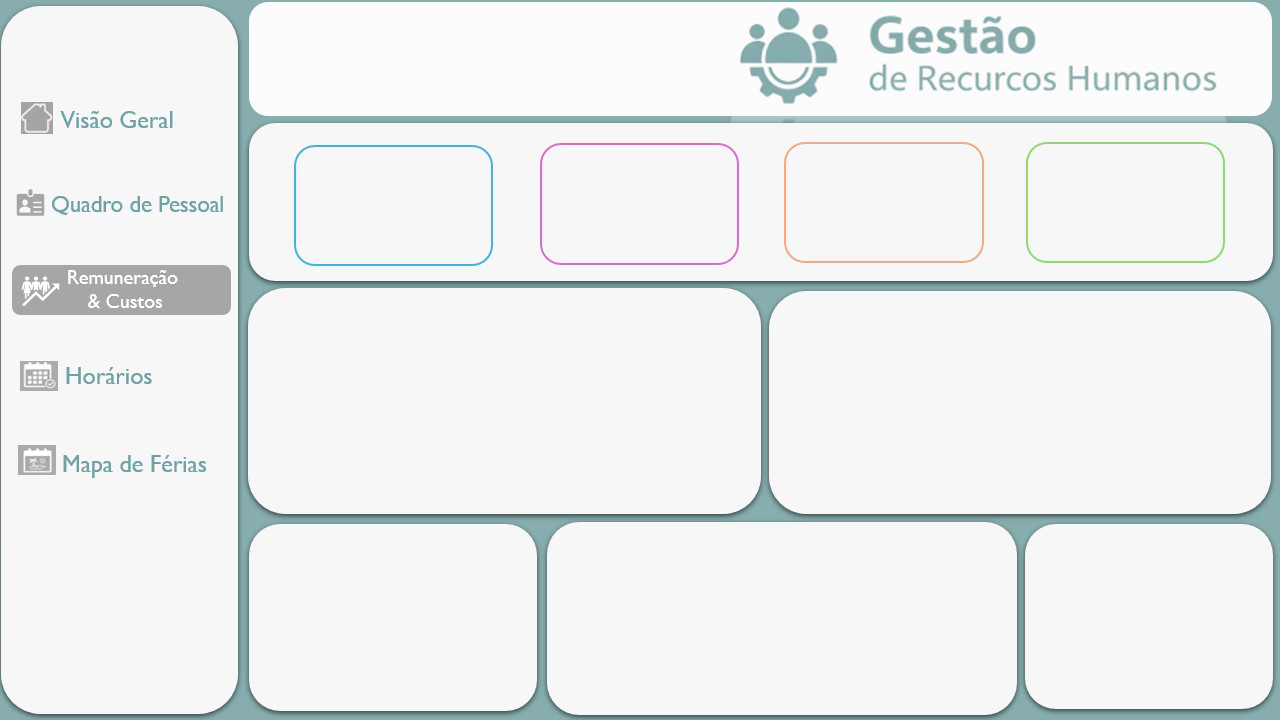

What the dashboard file says about the page in this screenshot:
{"tool":"powerbi","page":{"name":"Remuneração e Custo","canvas":[1280,720],"ordinal":2},"visuals":[{"type":"actionButton","box":[0,0,100,40],"z":0},{"type":"clusteredColumnChart","fields":{"Category":["Base de funcionarios.Nome Completo"]},"box":[249,286.6,497.9,227.8],"z":1000},{"type":"card","fields":{"Values":["Média de Antiguidade anos.Custo volateis por funcionario"]},"box":[253.7,131.5,285.4,140.9],"z":2000},{"type":"card","fields":{"Values":["Média de Antiguidade anos.Custo Total Mês Atual (Base)"]},"box":[497.9,128,285.4,149.1],"z":3000},{"type":"card","fields":{"Values":["Média de Antiguidade anos.Custo Médio por Funcionário"]},"box":[792.7,131.5,187.9,145.6],"z":4000},{"type":"lineClusteredColumnComboChart","fields":{"Category":["Base de funcionarios.Nome Completo"],"Y":["Média de Antiguidade anos.Custo total por funcionario"]},"box":[249.2,300,513.8,203.1],"z":5000},{"type":"donutChart","fields":{"Y":["Média de Antiguidade anos.Custo total por funcionario"],"Category":["Cargo.Cargo"]},"box":[783.1,300,496.9,203.1],"z":6000},{"type":"barChart","title":"Custo total por Sexo","fields":{"Category":["Base de funcionarios.ID_Sexo"],"Y":["Média de Antiguidade anos.Custo total por funcionario"]},"box":[1024.6,144.6,224.6,130.8],"z":7000},{"type":"funnel","fields":{"Category":["Cargo.Cargo"],"Y":["Sum(Custos.Horas Extra (€))"]},"box":[562.5,530.8,401.6,173.8],"z":8000},{"type":"pieChart","title":"Soma de Feriados Trabalhados por Sexo","fields":{"Y":["Sum(Custos.Feriados Trabalhados (€))"],"Category":["Base de funcionarios.ID_Sexo"]},"box":[249,543.7,285.4,149.1],"z":9000},{"type":"clusteredColumnChart","title":"Custo total de funcionario por Localidade","fields":{"Category":["Base de funcionarios.ID_Localidade"],"Y":["Média de Antiguidade anos.Custo total por funcionario"]},"box":[1030,542.6,236.1,149.1],"z":10000}]}

Visuals, with their boxes on the page's 1280x720 design canvas (x1, y1, x2, y2). These are canvas units, not pixel positions in the 1280x720 screenshot, which may show the page scaled, cropped or inside an application window:
actionButton: [left=0, top=0, right=100, bottom=40]
clusteredColumnChart - Base de funcionarios.Nome Completo: [left=249, top=287, right=747, bottom=514]
card - Média de Antiguidade anos.Custo volateis por funcionario: [left=254, top=132, right=539, bottom=272]
card - Média de Antiguidade anos.Custo Total Mês Atual (Base): [left=498, top=128, right=783, bottom=277]
card - Média de Antiguidade anos.Custo Médio por Funcionário: [left=793, top=132, right=981, bottom=277]
lineClusteredColumnComboChart - Base de funcionarios.Nome Completo x Média de Antiguidade anos.Custo total por funcionario: [left=249, top=300, right=763, bottom=503]
donutChart - Média de Antiguidade anos.Custo total por funcionario x Cargo.Cargo: [left=783, top=300, right=1280, bottom=503]
"Custo total por Sexo" barChart: [left=1025, top=145, right=1249, bottom=275]
funnel - Cargo.Cargo x Sum(Custos.Horas Extra (€)): [left=562, top=531, right=964, bottom=705]
"Soma de Feriados Trabalhados por Sexo" pieChart: [left=249, top=544, right=534, bottom=693]
"Custo total de funcionario por Localidade" clusteredColumnChart: [left=1030, top=543, right=1266, bottom=692]
